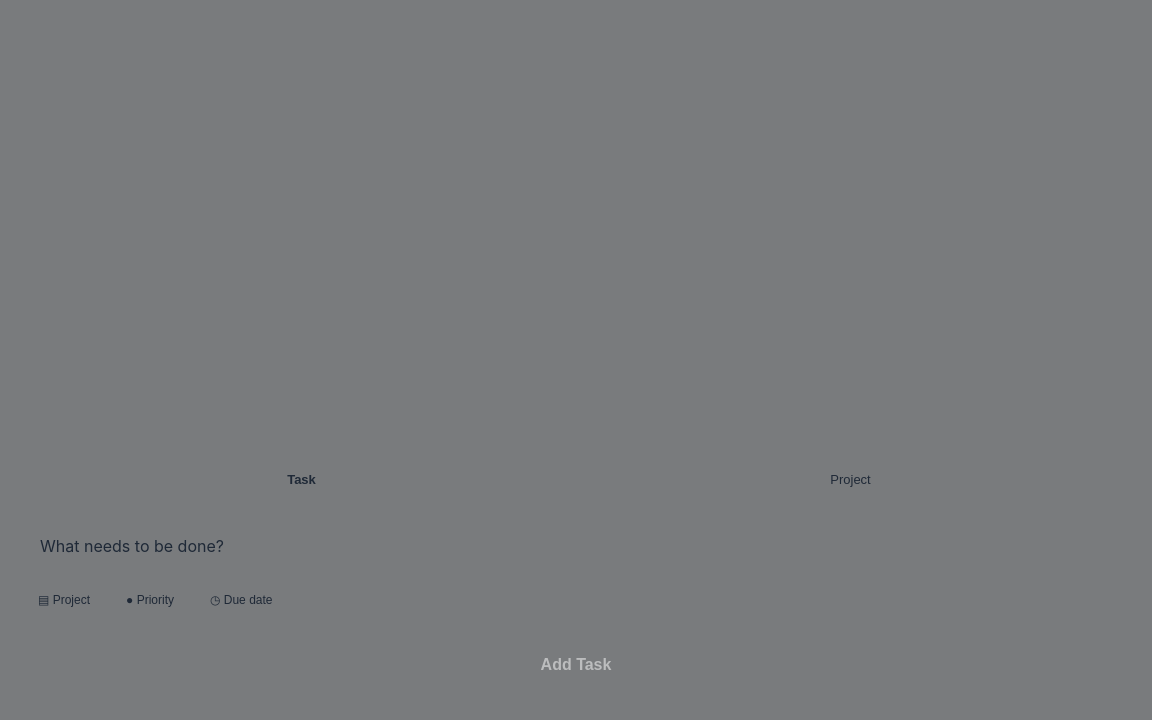
Test: QuickCapture › cycles priority on click
What coordinates should you click on to do the following:
click the button "● Priority"
I would click on:
 (150, 600)
Its box is [112,582,188,618].
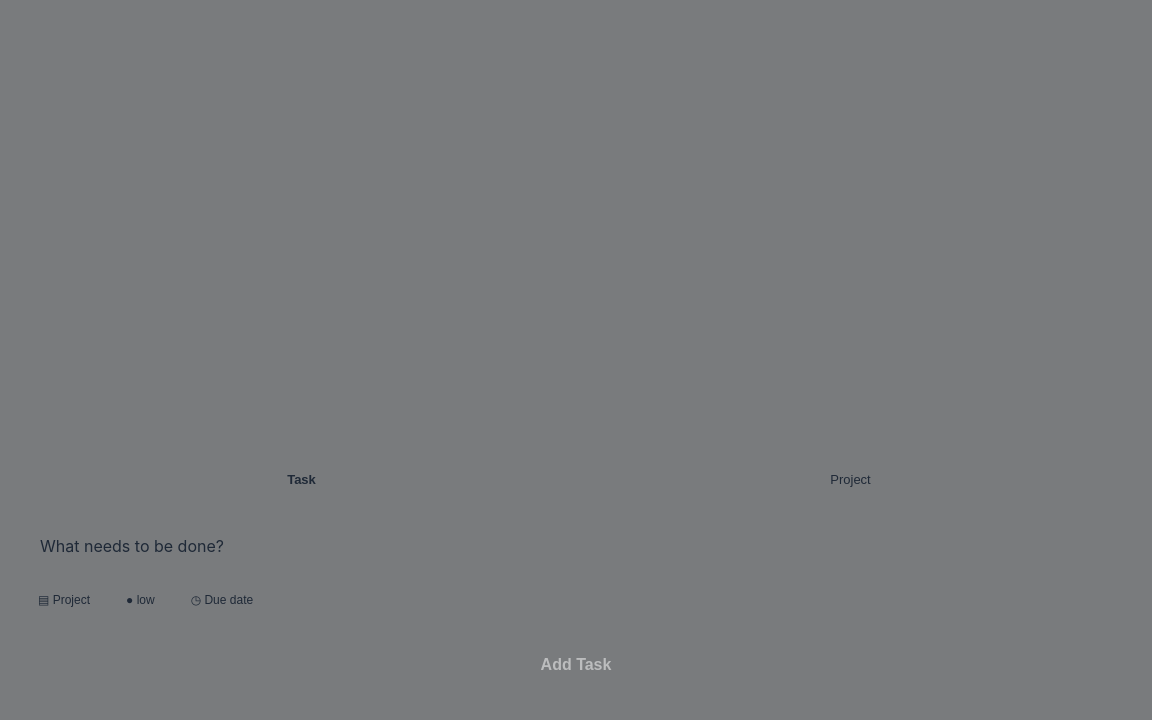
Expected: the button "● low" is shown
What coordinates should you click on to do the following:
click the button "● low"
I would click on:
 (140, 600)
Its box is [112,582,169,618].
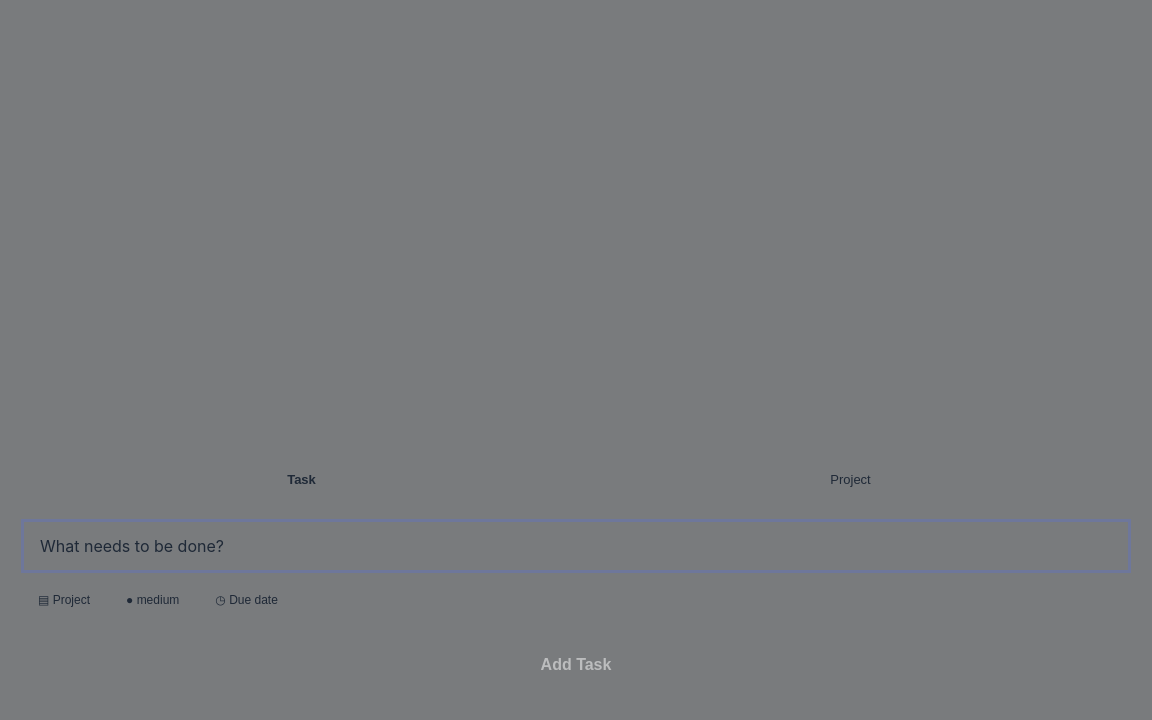
Expected: the button "● medium" is shown, [112,582,193,618]
